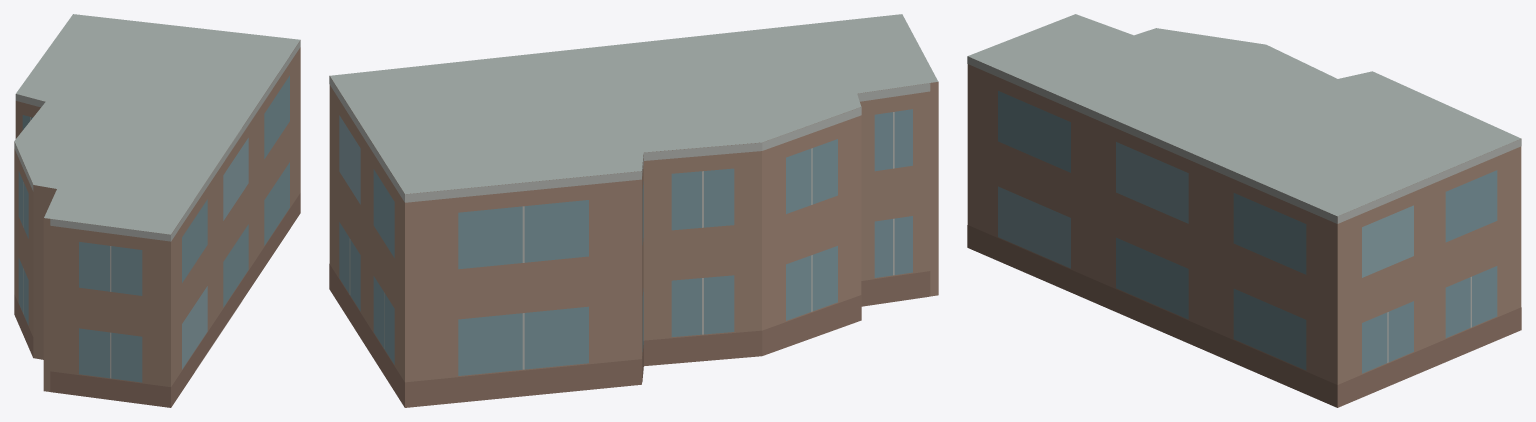
The model's file is survey-upis-32537648.glb.
3 views of the same model, side by side, from view 1: azimuth 30°, elevation 25°; view 2: azimuth 150°, elevation 25°; view 3: azimuth 270°, elevation 25° (orthographic). The views are drawn at different scales.
Parts seen in each view (by area): view 1: survey-upis-32537648.tmp; view 2: survey-upis-32537648.tmp; view 3: survey-upis-32537648.tmp.
Boxes of the visible parts, box(x1,y1,x2,y2) form: survey-upis-32537648.tmp: box(14, 14, 300, 407); survey-upis-32537648.tmp: box(329, 14, 938, 407); survey-upis-32537648.tmp: box(967, 14, 1521, 407).
Size of the model in its own units: 13.83 by 6.1 by 16.
